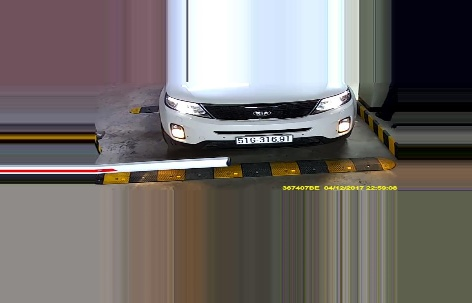plate: (234, 131, 296, 148)
